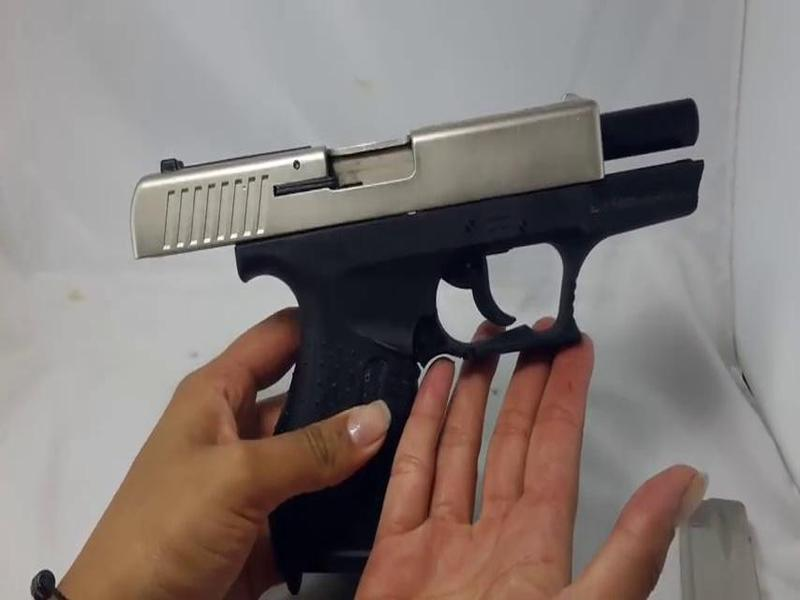Pistola: (117, 87, 723, 578)
